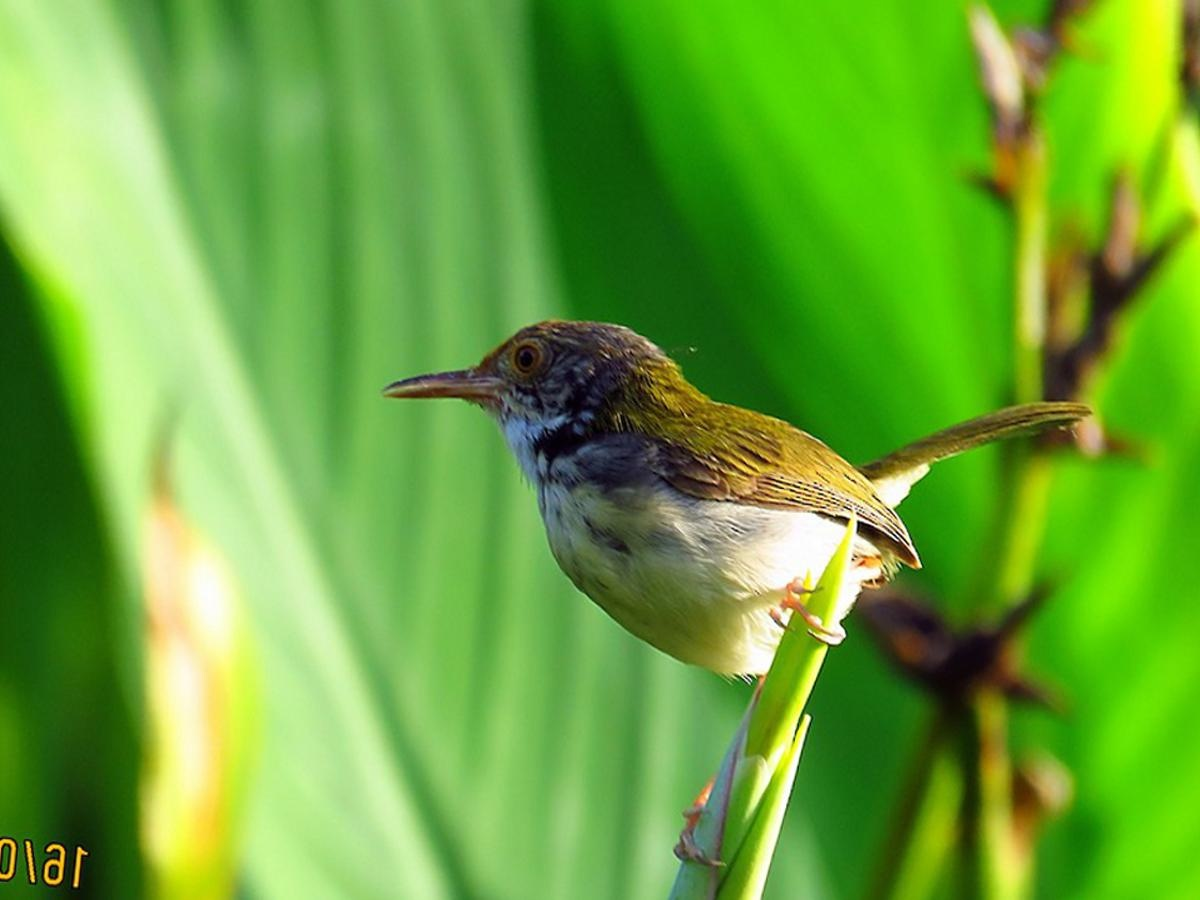tailorbird: (363, 277, 1158, 718)
